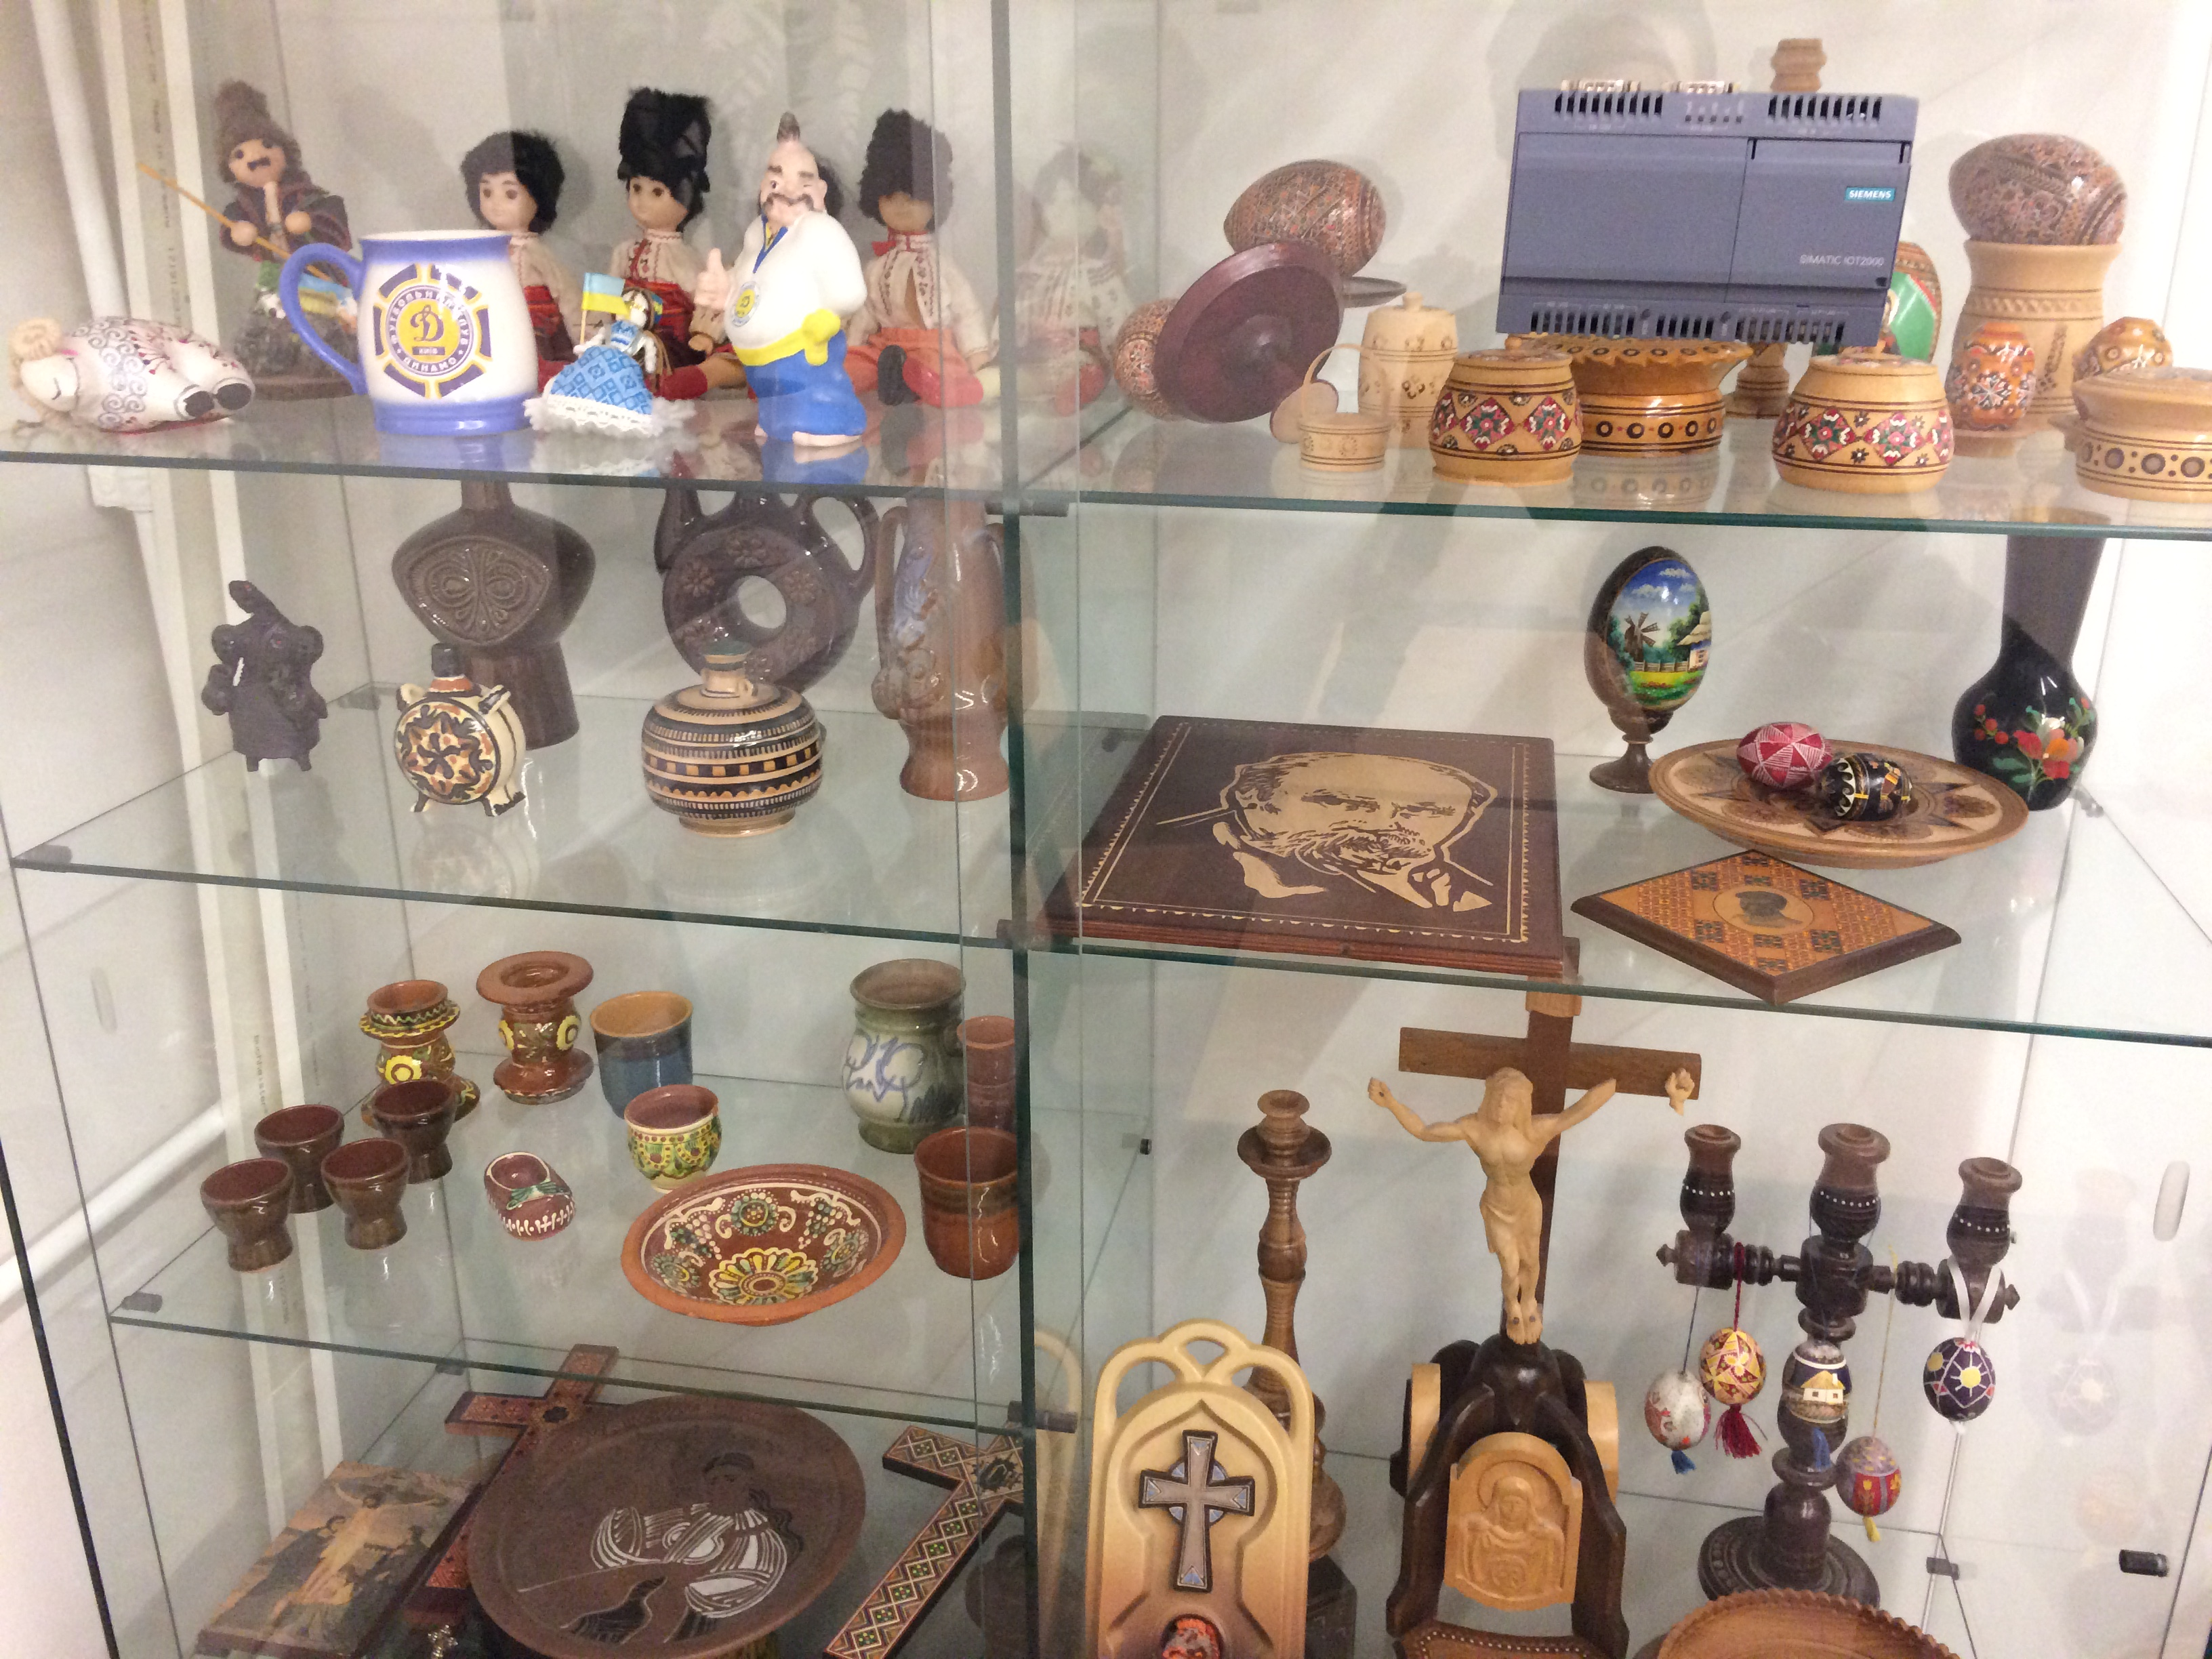iot2000: (1493, 77, 1923, 350)
